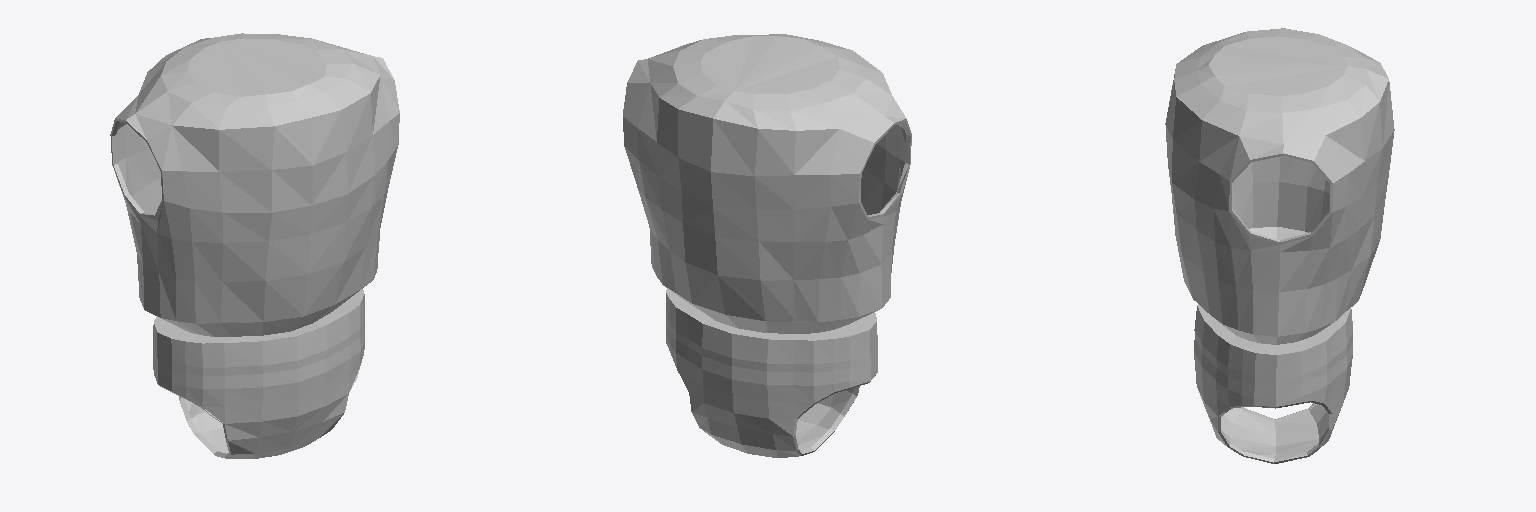
File: high_chest.obj
3 renders of one model, left to right at view 1: azimuth 30°, elevation 25°; view 2: azimuth 150°, elevation 25°; view 3: azimuth 270°, elevation 25°, orthographic.
Parts seen in each view (by area): view 1: polySurface32 polySurface1 Robot; view 2: polySurface32 polySurface1 Robot; view 3: polySurface32 polySurface1 Robot.
Boxes of the visible parts, box(x1,y1,x2,y2) form: polySurface32 polySurface1 Robot: box(110, 33, 399, 458); polySurface32 polySurface1 Robot: box(623, 34, 911, 457); polySurface32 polySurface1 Robot: box(1165, 28, 1394, 463).
Size of the model in its own units: 4.33 by 6.14 by 3.34.